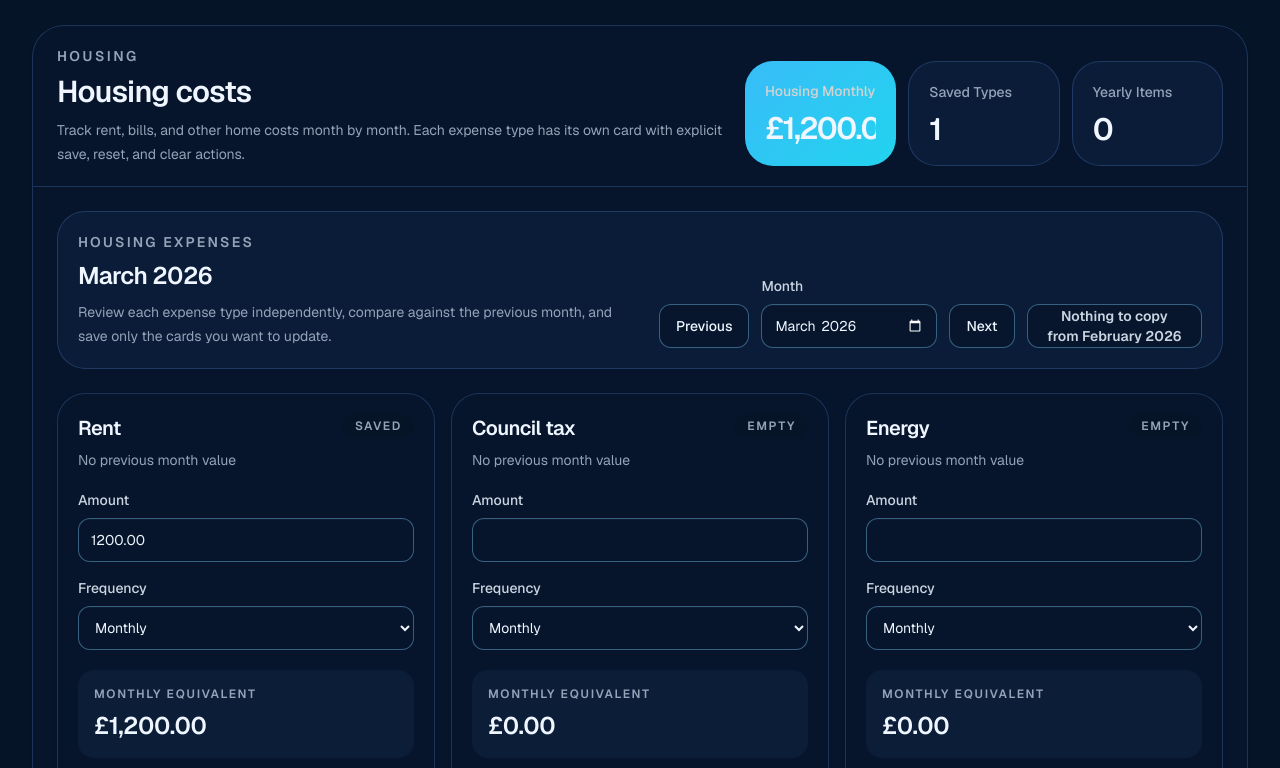
Test: [Component] housing view › should reset local card changes without saving
The width and height of the screenshot is (1280, 768).
Replace the text in the 1st number field labelled "Amount" with "1350": [246, 540] box [78,518,414,562]
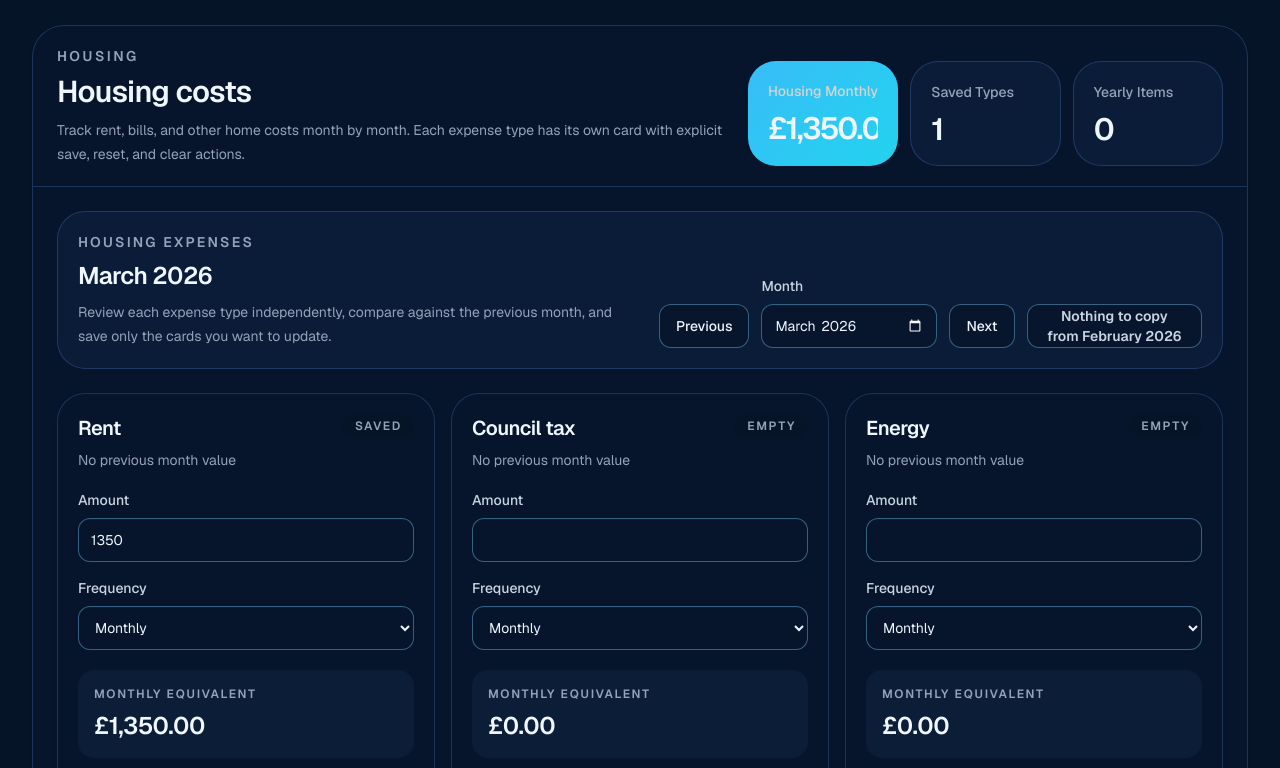
Select "Yearly" in the 1st dropdown labelled "Frequency": [246, 628] box [78,606,414,650]
(page scrolled)
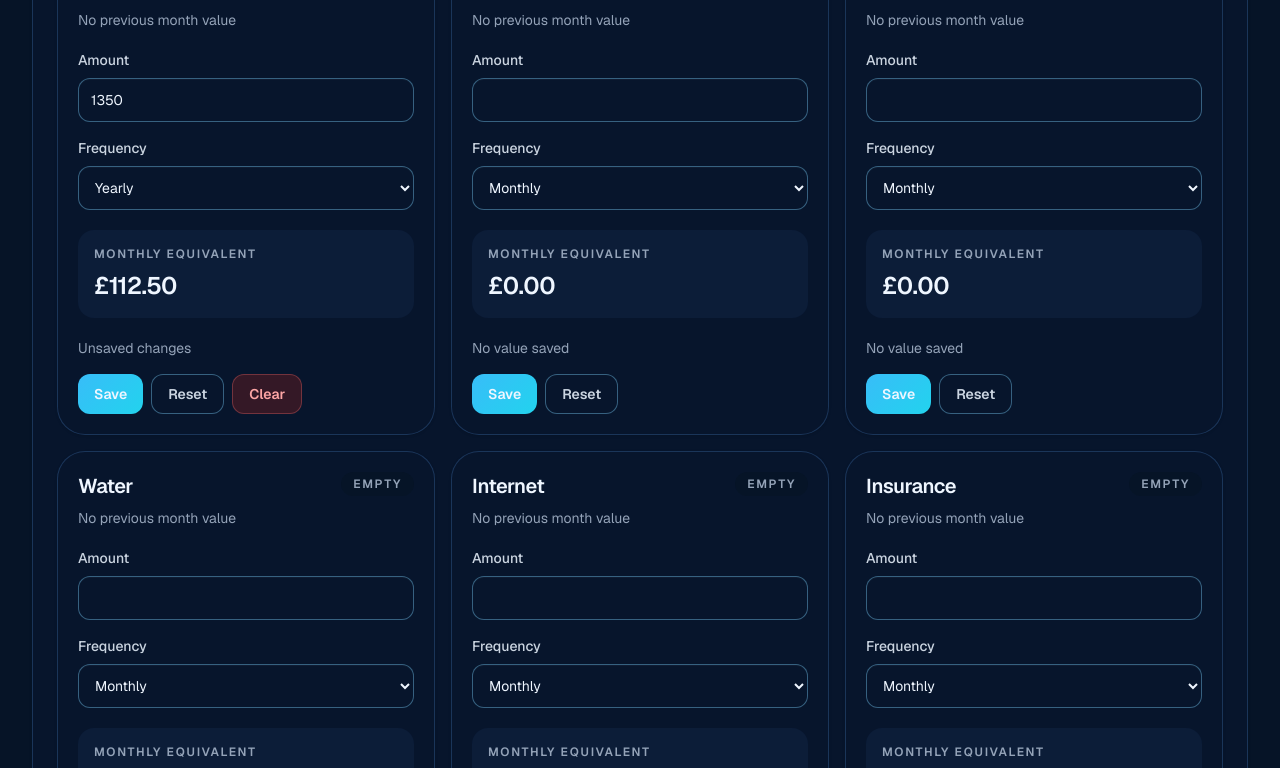
Click the button "Reset" below "Unsaved changes": [188, 394] box [151,374,224,414]
(page scrolled)
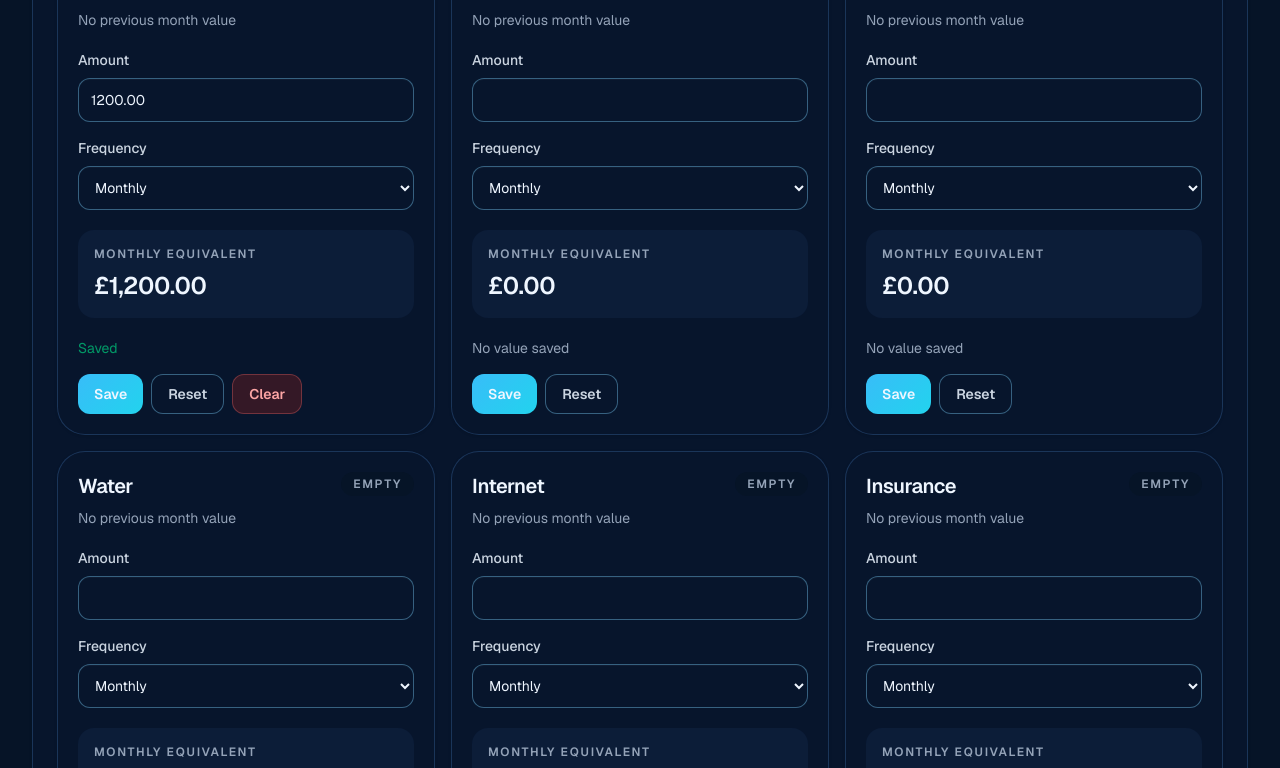
Expected: the 1st number field showing "1200.00" is shown, [78,78,414,122]
